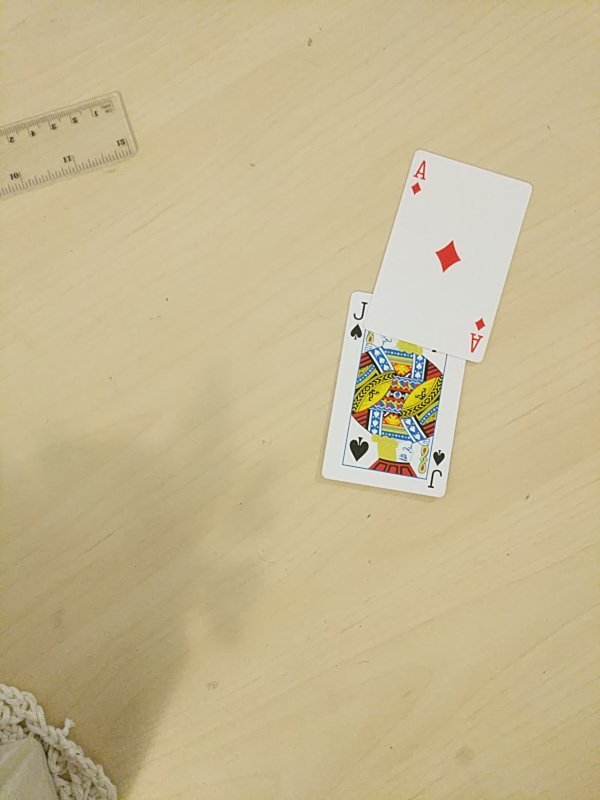Diamonds: (364, 146, 535, 363)
Spades: (317, 292, 464, 498)
